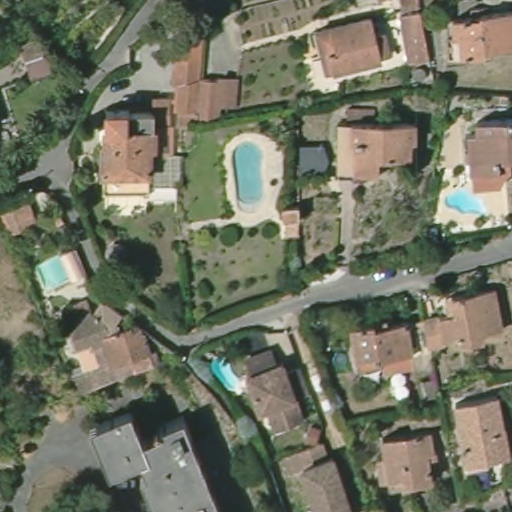pool: (228, 140, 270, 210), (208, 347, 249, 399), (440, 183, 492, 218), (36, 254, 74, 294)
